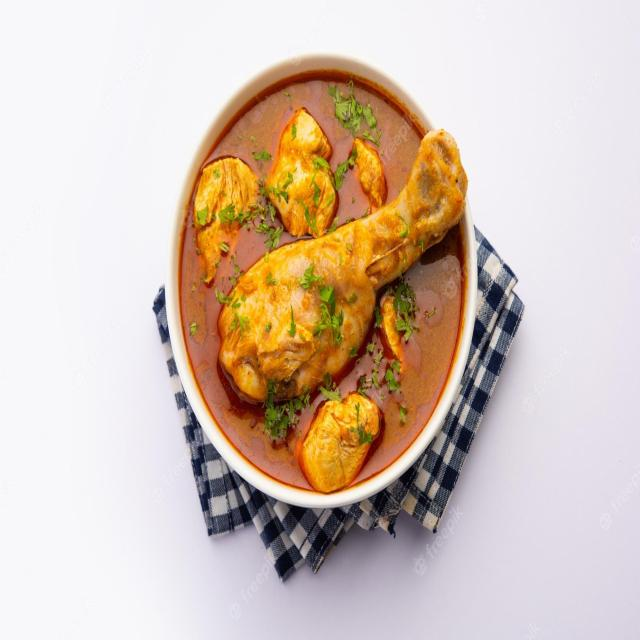chicken: (182, 82, 468, 479)
